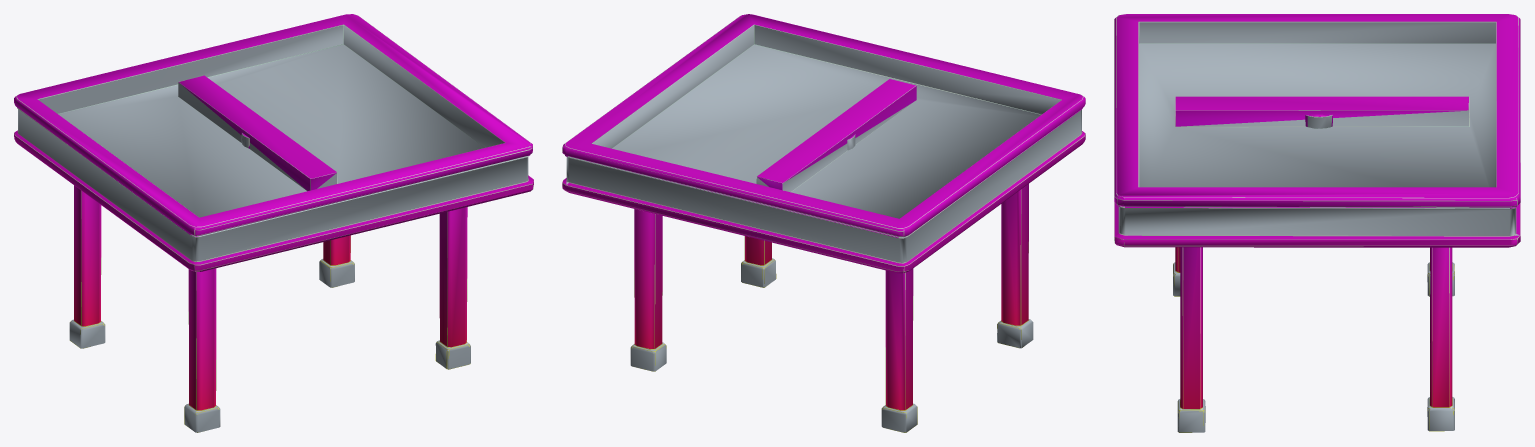
File: wl_canopy_station.glb
3 views of the same model, side by side, from view 1: azimuth 30°, elevation 25°; view 2: azimuth 150°, elevation 25°; view 3: azimuth 270°, elevation 25° (orthographic). The views are drawn at different scales.
Visible parts, largest first — view 1: wl_canopy_station; view 2: wl_canopy_station; view 3: wl_canopy_station.
Part boxes in pixels (x1,y1,x2,y2): wl_canopy_station: [14, 14, 533, 432]; wl_canopy_station: [562, 14, 1085, 432]; wl_canopy_station: [1114, 14, 1520, 432].
Bounding box in the file's own units: 6.41 × 4.1 × 5.92.
